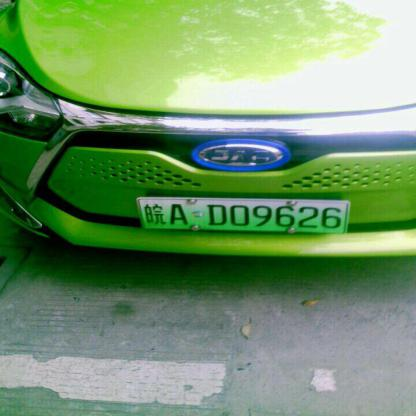lp: (137, 199, 348, 232)
